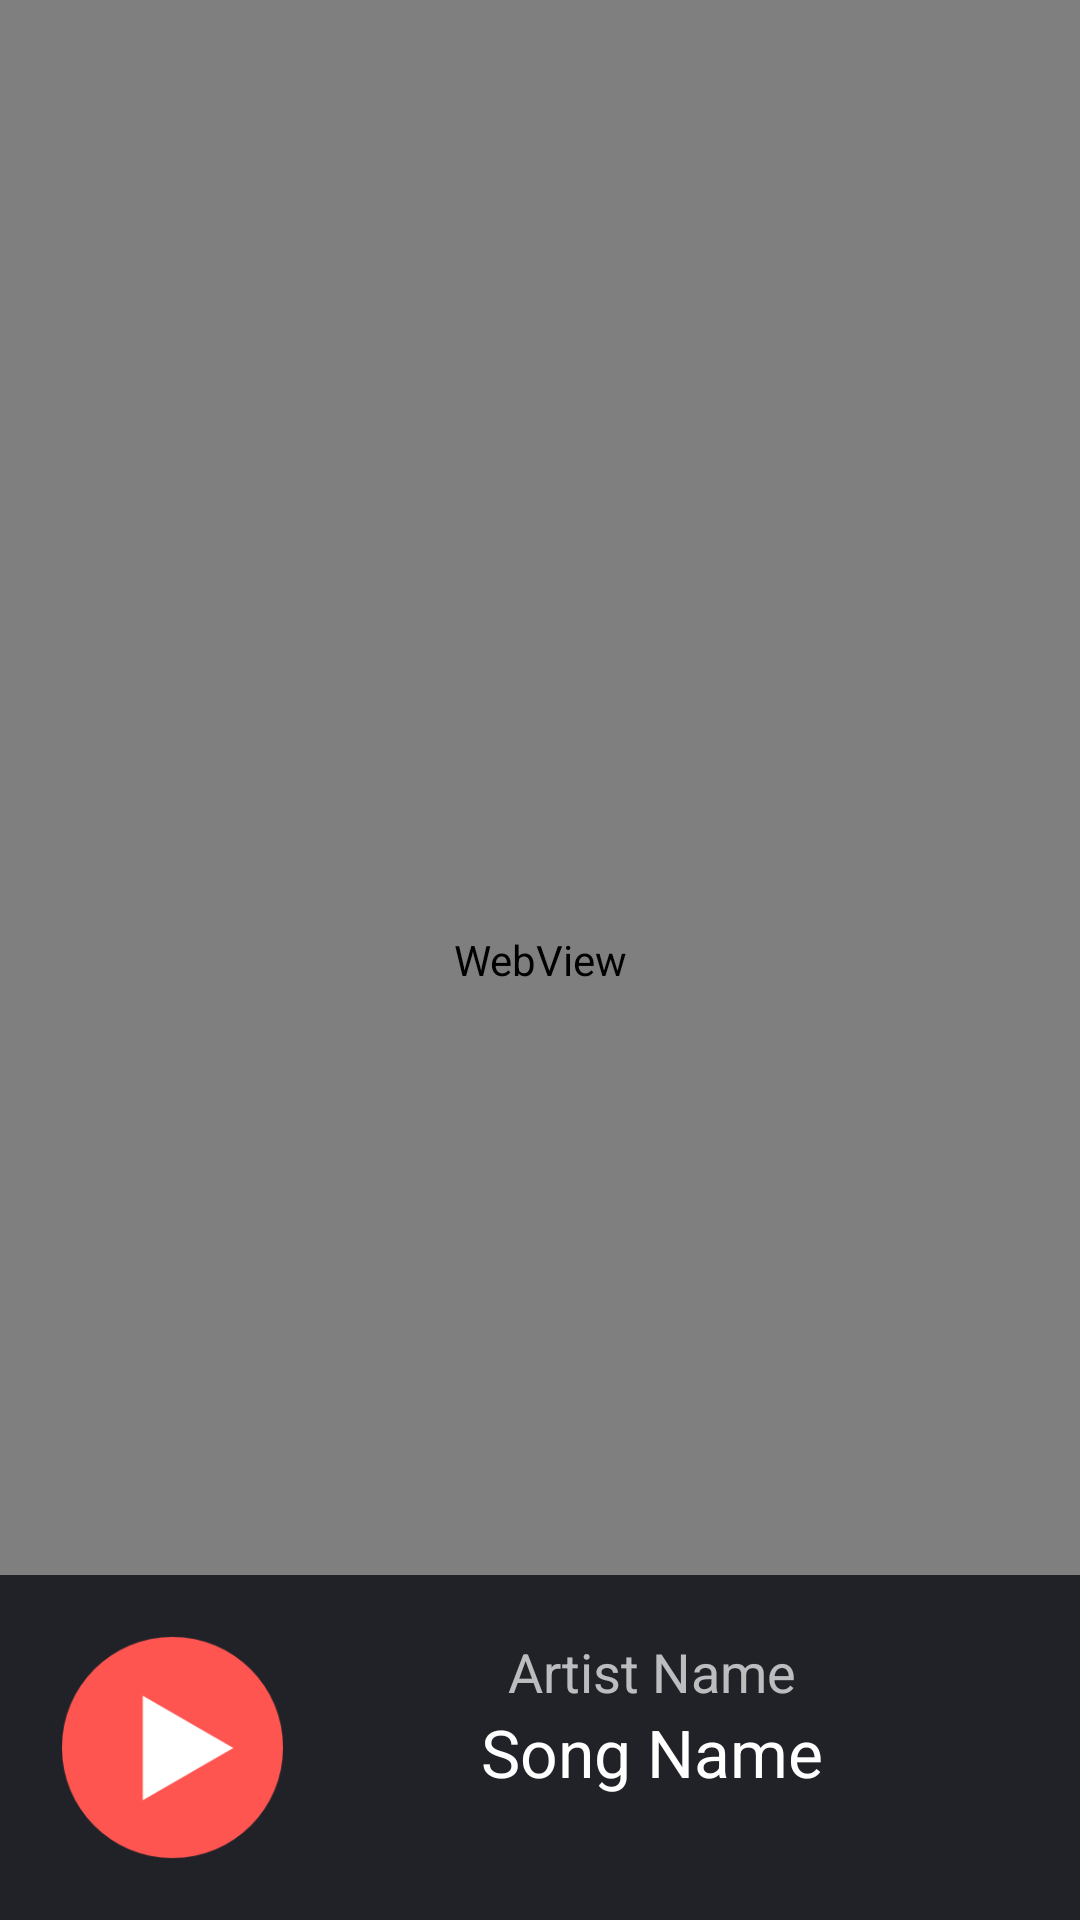

Where icons sit on this 1080 × 1920 app screen, as detection(x1, y1, x2, y2):
play: detection(62, 1637, 283, 1858)
